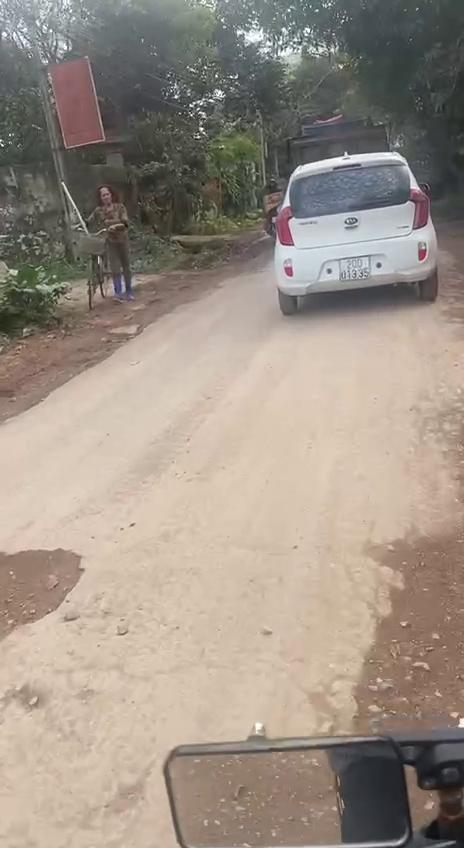pothole: (342, 516, 464, 742), (0, 538, 92, 650)
